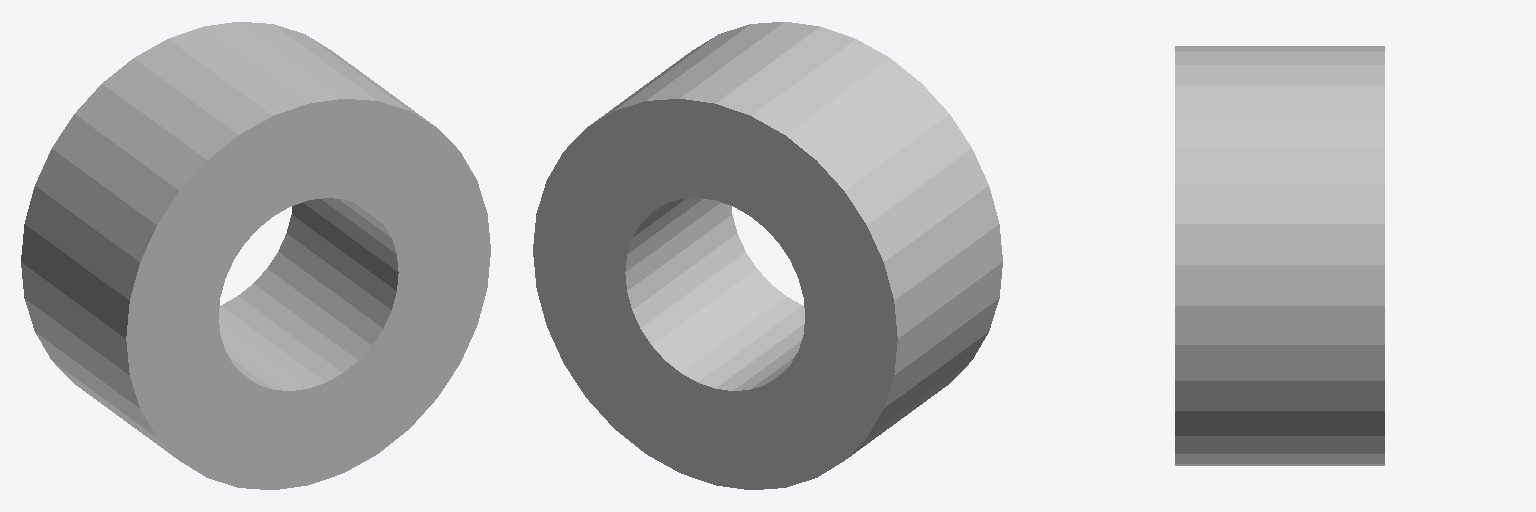
File: builder-donut.obj
The picture shows the model from 3 angles: view 1: azimuth 30°, elevation 25°; view 2: azimuth 150°, elevation 25°; view 3: azimuth 270°, elevation 25°; orthographic projection.
Parts seen in each view (by area): view 1: donut_Cylinder.001; view 2: donut_Cylinder.001; view 3: donut_Cylinder.001.
Part boxes in pixels (left/top/right/bottom): donut_Cylinder.001: left=21, top=22, right=490, bottom=489; donut_Cylinder.001: left=533, top=22, right=1002, bottom=489; donut_Cylinder.001: left=1175, top=46, right=1384, bottom=465.
Bounding box in the file's own units: 4 × 4 × 2.